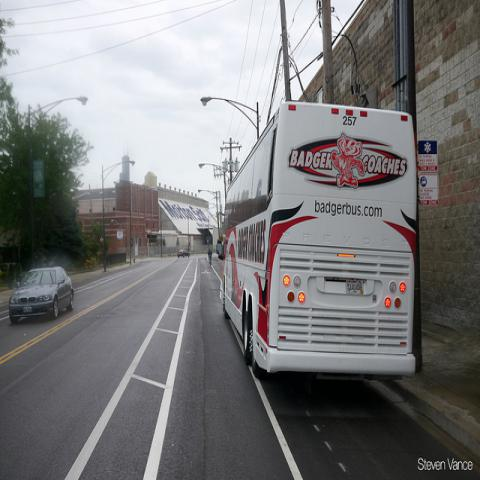bus: (214, 100, 422, 379)
car: (8, 268, 76, 325), (178, 249, 190, 258)
